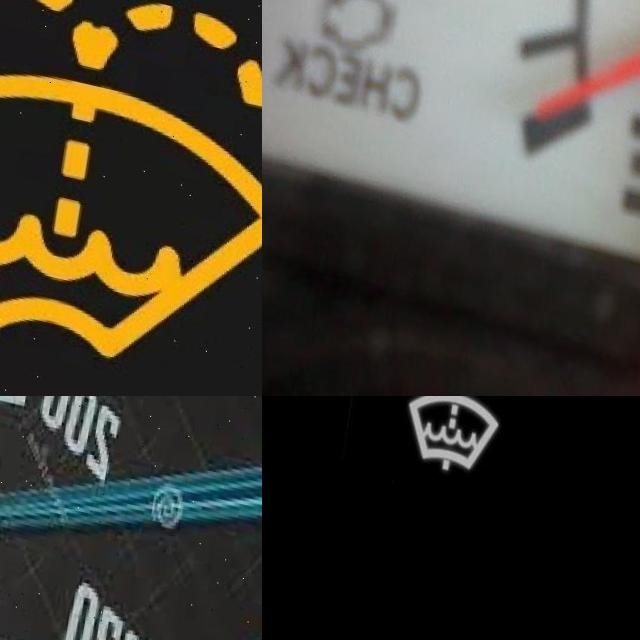Washer Fluid: (0, 0, 262, 372), (414, 396, 517, 463)
